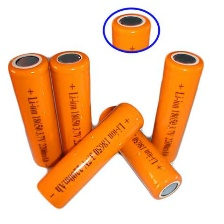battery: (36, 99, 145, 213), (97, 102, 184, 201), (4, 50, 65, 171), (148, 46, 206, 168), (47, 48, 97, 171)
